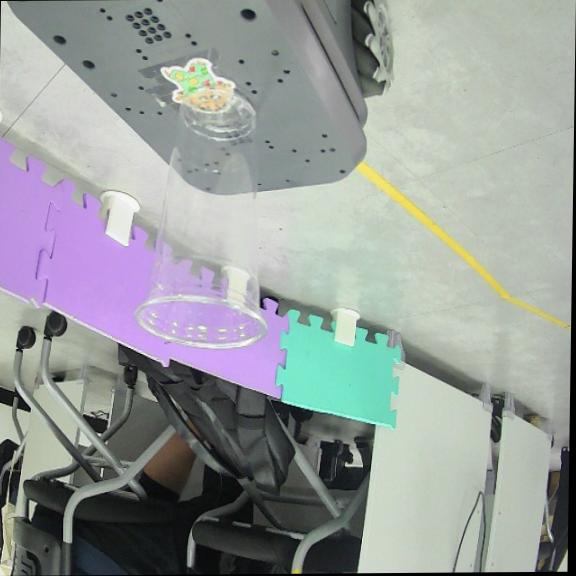Plastik: (135, 84, 265, 348)
